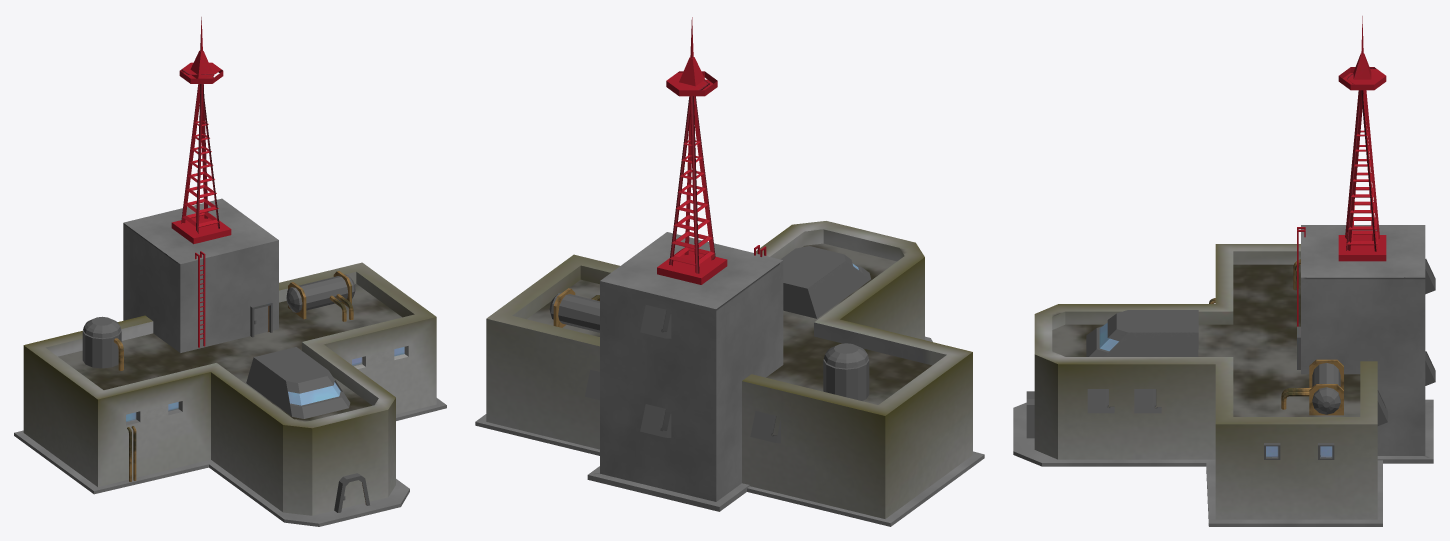
Rendered from Edificio3.fbx.
The picture shows the model from 3 angles, left to right: view 1: azimuth 30°, elevation 25°; view 2: azimuth 150°, elevation 25°; view 3: azimuth 270°, elevation 25°; orthographic projection. The views are drawn at different scales.
Parts seen in each view (by area): view 1: LOD_0; view 2: LOD_0; view 3: LOD_0.
Part boxes in pixels (<box>): LOD_0: <box>14,17,446,526</box>; LOD_0: <box>475,17,984,526</box>; LOD_0: <box>1013,16,1435,526</box>.
Size of what is drawn, in the model's own units: 2583 by 2696 by 2457.
